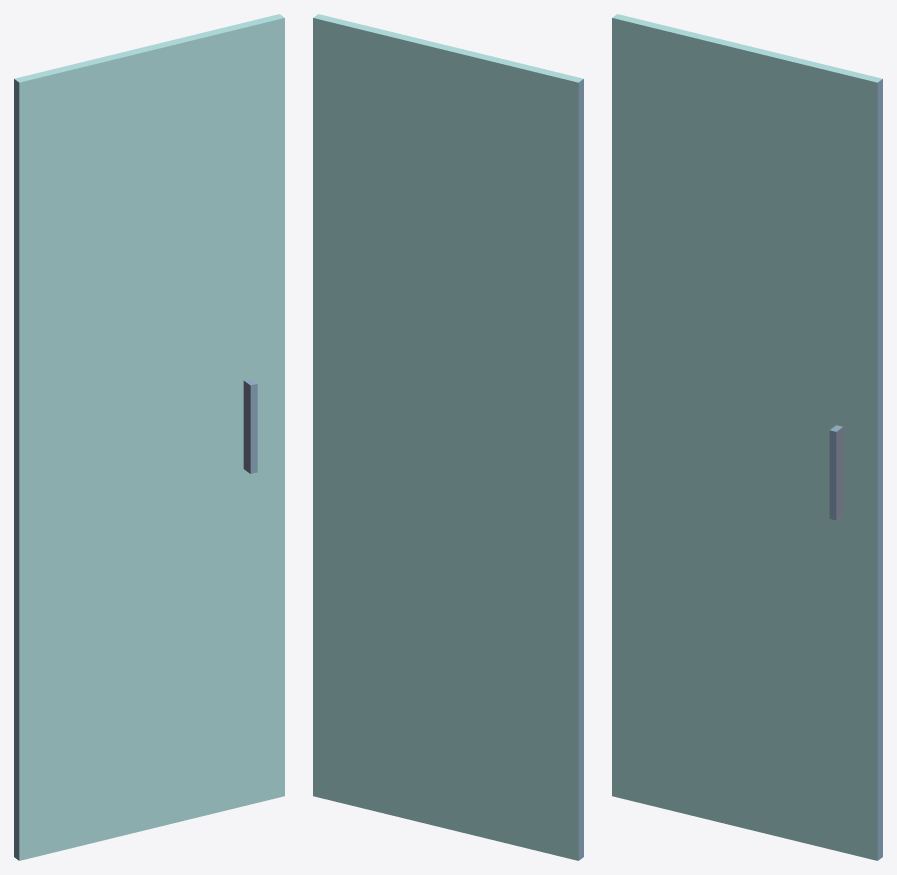
Rendered from Shower Door.fbx.
3 renders of one model, left to right at view 1: azimuth 30°, elevation 25°; view 2: azimuth 150°, elevation 25°; view 3: azimuth 330°, elevation 25°, orthographic.
Parts seen in each view (by area): view 1: Shower Door; view 2: Shower Door; view 3: Shower Door.
Boxes of the visible parts, x1=… form: Shower Door: x1=14, y1=14, x2=284, y2=860; Shower Door: x1=313, y1=14, x2=583, y2=860; Shower Door: x1=612, y1=14, x2=882, y2=860.
Size of the model in its own units: 141 by 396 by 11.27.
